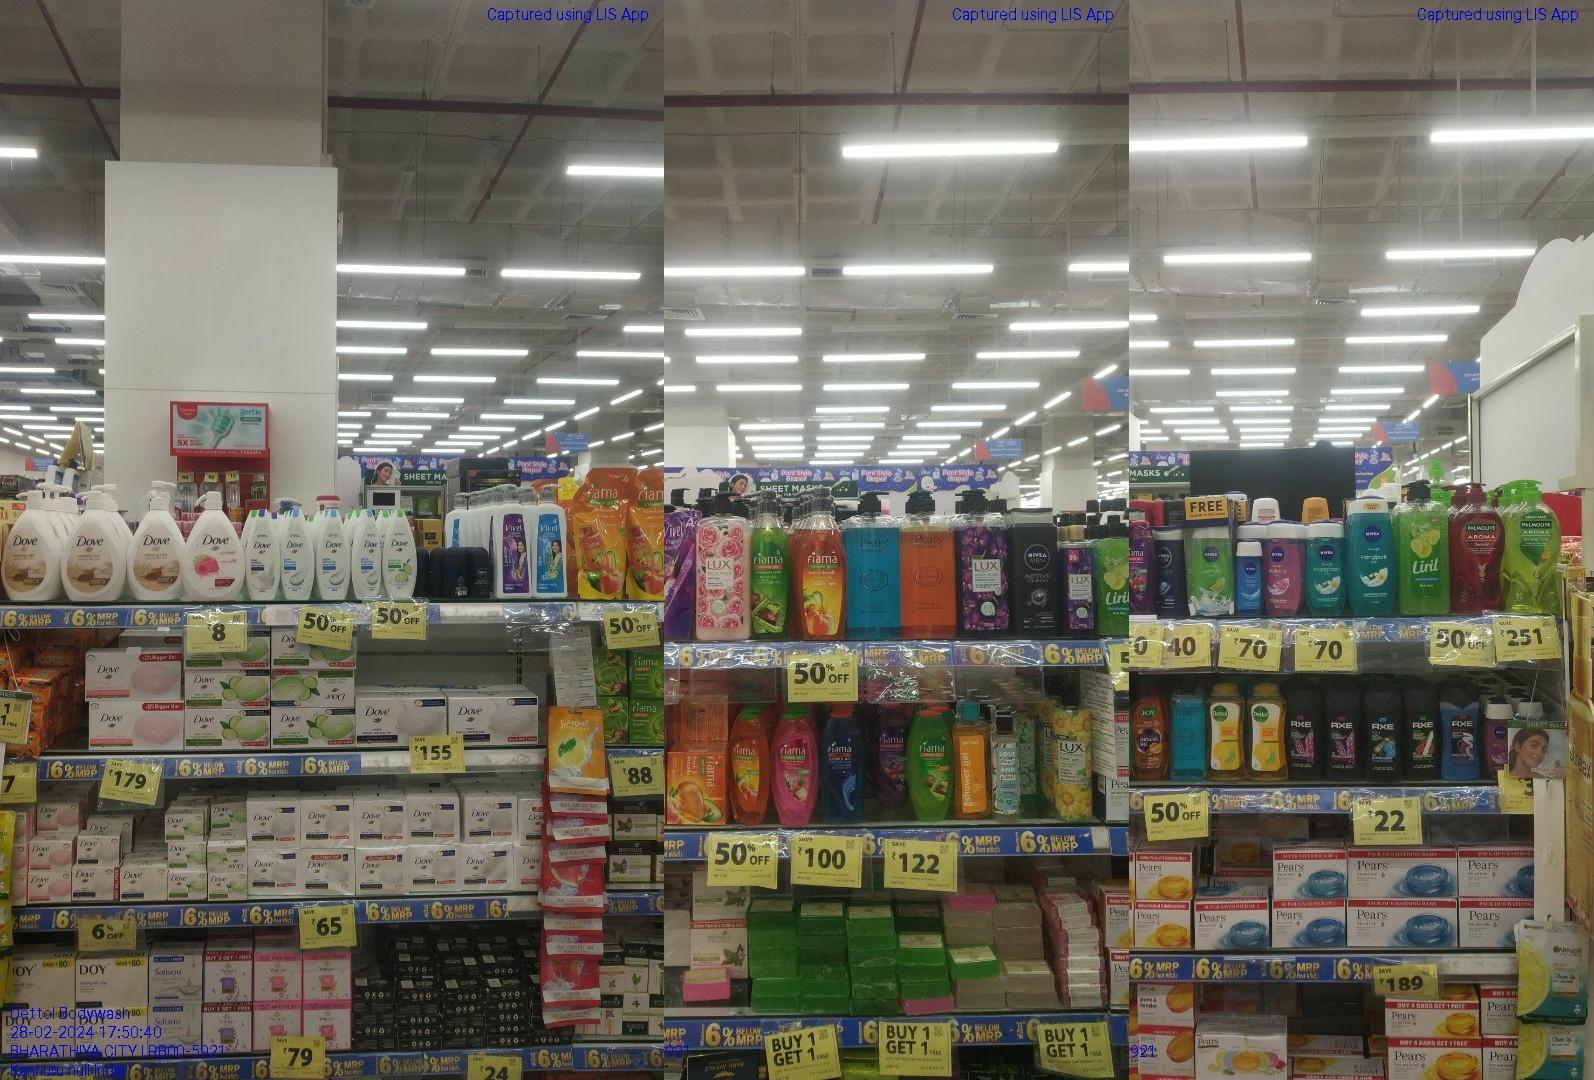Dettol_Bodywash_Refresh: (1246, 682, 1284, 782), (1207, 682, 1243, 781)
Dove_Deep_Moisture_Body_Wash_250ML: (245, 511, 280, 603)
Dove_Gentle_Exfoliating_Body_Wash_250ML: (318, 507, 349, 603), (283, 505, 312, 601), (355, 505, 381, 600)
Dove_Refreshing_Body_Wash_250ML: (386, 506, 418, 600)
Fiama_Shower_Gel_Lemongrass_and_Jojoba_250ML: (906, 705, 953, 821)
Fiama_Shower_Gel_Patchouli_and_Macadamia_250ML: (774, 711, 814, 826)
Fiama_Shower_Gel_Peach_and_Avocado_250ML: (731, 708, 769, 829)
Joy_Shower_Gel_Mandarin_and_Lemongrass_250ML: (1131, 680, 1167, 780)
Liril_Lime_and_Tea_Tree_Oil_Body_Wash_250ML: (1096, 520, 1128, 639)
Lux_Black_Orchid_Scent_and_Juniper_Oil_Body_Wash_245ML: (1064, 523, 1094, 639)
Nivea_Shower_Gel_Frangipani_and_Oil_250ML: (1348, 498, 1395, 617), (1305, 520, 1345, 616)
Nivea_Shower_Gel_Waterlily_and_Oil_250ML: (1265, 520, 1300, 617)
Pears_Pure_Glycerin_and_Mint_Extracts_Body_Wash_250ML: (1170, 679, 1206, 783)
